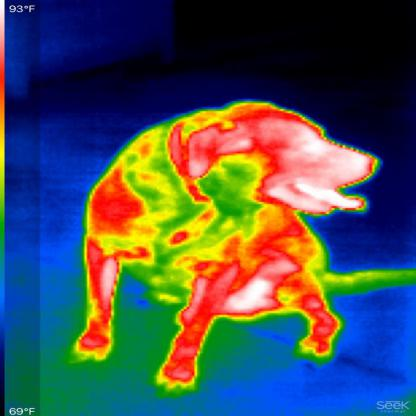dog: (68, 97, 383, 394)
